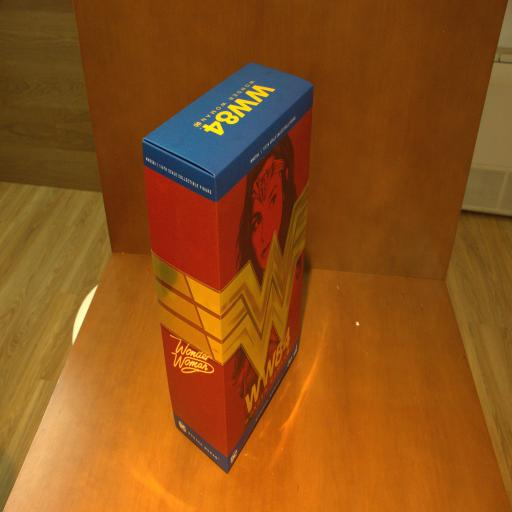WonderWoman: (142, 61, 315, 476)
